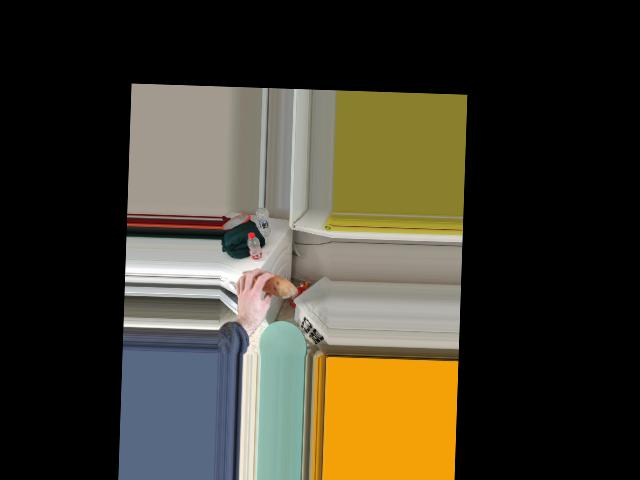sweet_potato: (238, 269, 296, 297)
